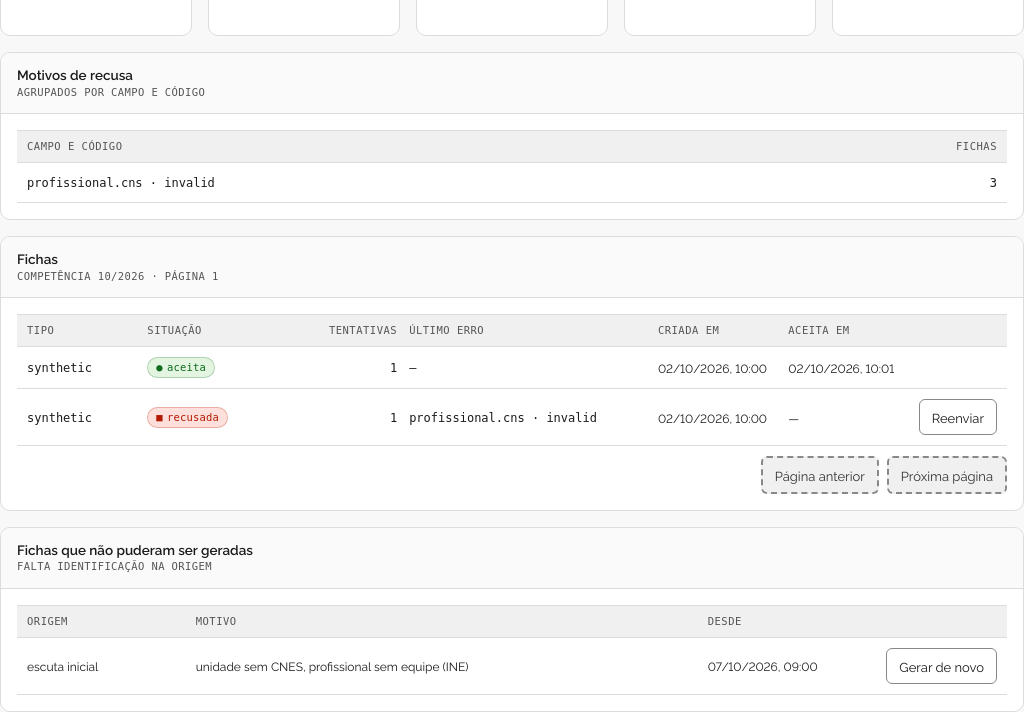
Test case: Produção e-SUS (módulo 16) › módulo 18: municipal_admin gera de novo com step-up; ainda faltando, diz o quê
(page scrolled)
Click the button with aria-label "Gerar de novo g1" at (942, 666), box [886, 648, 997, 684]
(page scrolled)
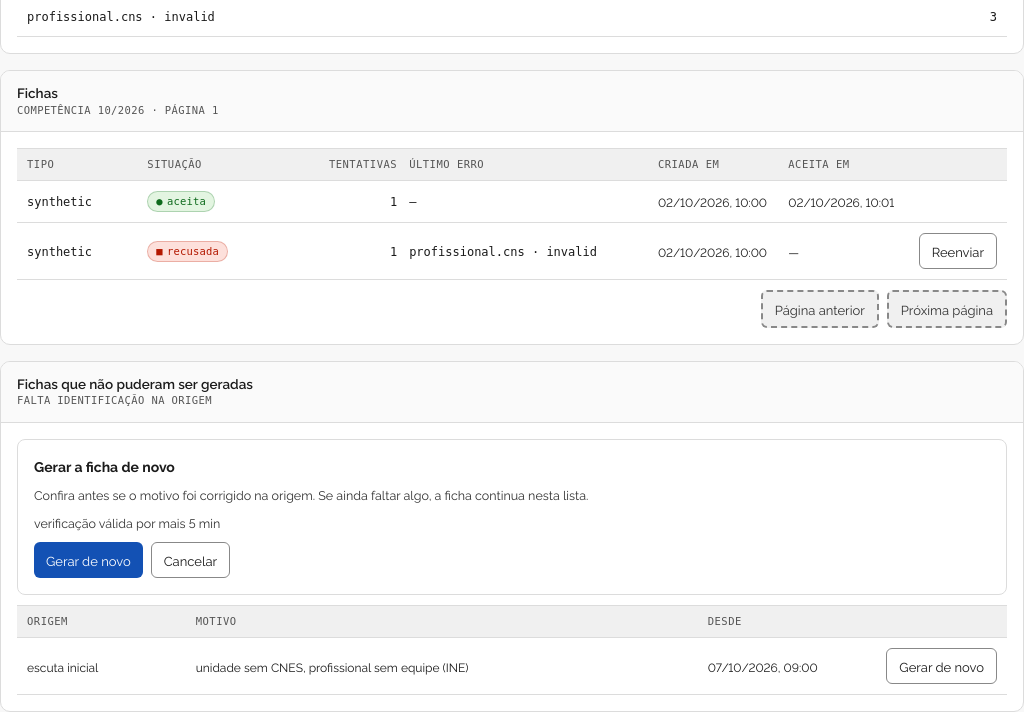
Click the button "Gerar de novo" below "verificação válida por mais" at (88, 560), box [34, 542, 143, 578]
(page scrolled)
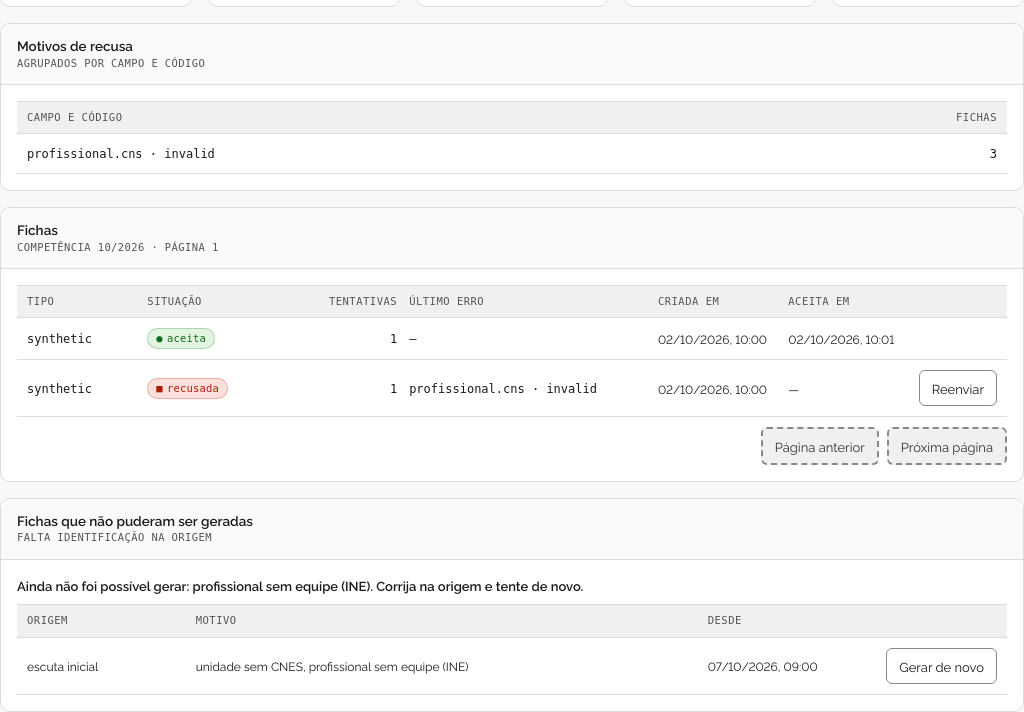
Check: the text "Ainda não foi possível gerar: profissional sem equipe (INE). Corrija na origem e tente de novo." is shown, box [17, 576, 583, 594]
